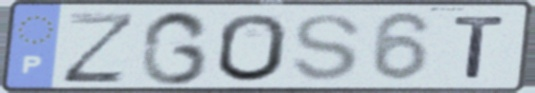6: (366, 9, 438, 86)
G: (137, 8, 213, 87)
O: (215, 11, 290, 84)
S: (289, 11, 366, 83)
T: (450, 14, 510, 81)
Z: (59, 10, 140, 85)
